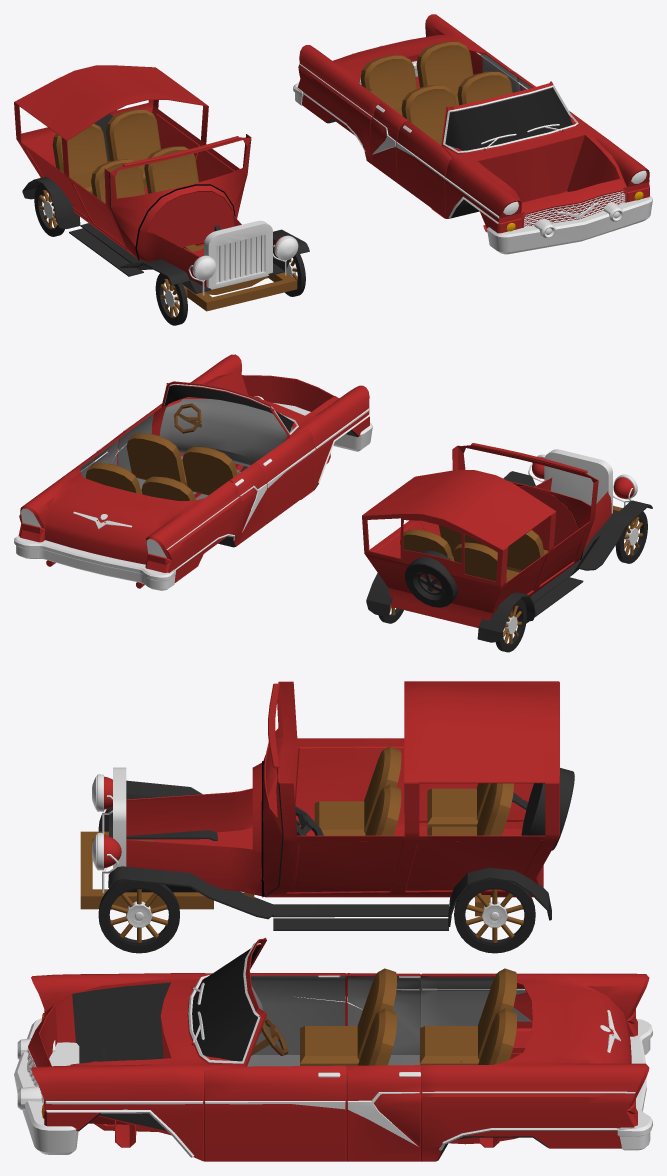
The model's file is aaaa.fbx.
3 views of the same model, one above another, from view 1: azimuth 30°, elevation 25°; view 2: azimuth 150°, elevation 25°; view 3: azimuth 270°, elevation 25° (orthographic). The views are drawn at different scales.
Visible parts, largest first — view 1: колесо 27.001, колесо 27.003, колесо 27.005, колесо 27.004, колесо 27.007; view 2: колесо 27.001, колесо 27.003, колесо 27.005, колесо 27.004, колесо 27.007, колесо 27.002; view 3: колесо 27.001, колесо 27.003, колесо 27.005, колесо 27.004.
Part boxes in pixels (bbox=[...]): колесо 27.001: bbox=[293, 14, 652, 254]; колесо 27.003: bbox=[14, 65, 309, 311]; колесо 27.005: bbox=[34, 183, 305, 325]; колесо 27.004: bbox=[192, 236, 297, 279]; колесо 27.007: bbox=[503, 170, 646, 231]; колесо 27.001: bbox=[14, 354, 372, 590]; колесо 27.003: bbox=[362, 443, 652, 642]; колесо 27.005: bbox=[378, 511, 647, 652]; колесо 27.004: bbox=[532, 457, 634, 498]; колесо 27.007: bbox=[21, 508, 166, 557]; колесо 27.002: bbox=[174, 403, 201, 433]; колесо 27.001: bbox=[14, 937, 652, 1161]; колесо 27.003: bbox=[80, 681, 574, 930]; колесо 27.005: bbox=[98, 808, 535, 953]; колесо 27.004: bbox=[92, 776, 121, 868].
Size of the model in its own units: 685 by 201 by 558.
